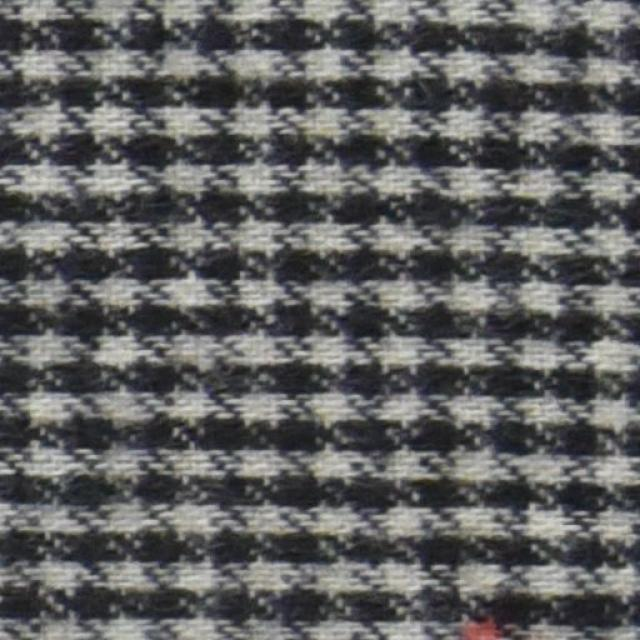Stain: (443, 602, 523, 639)
